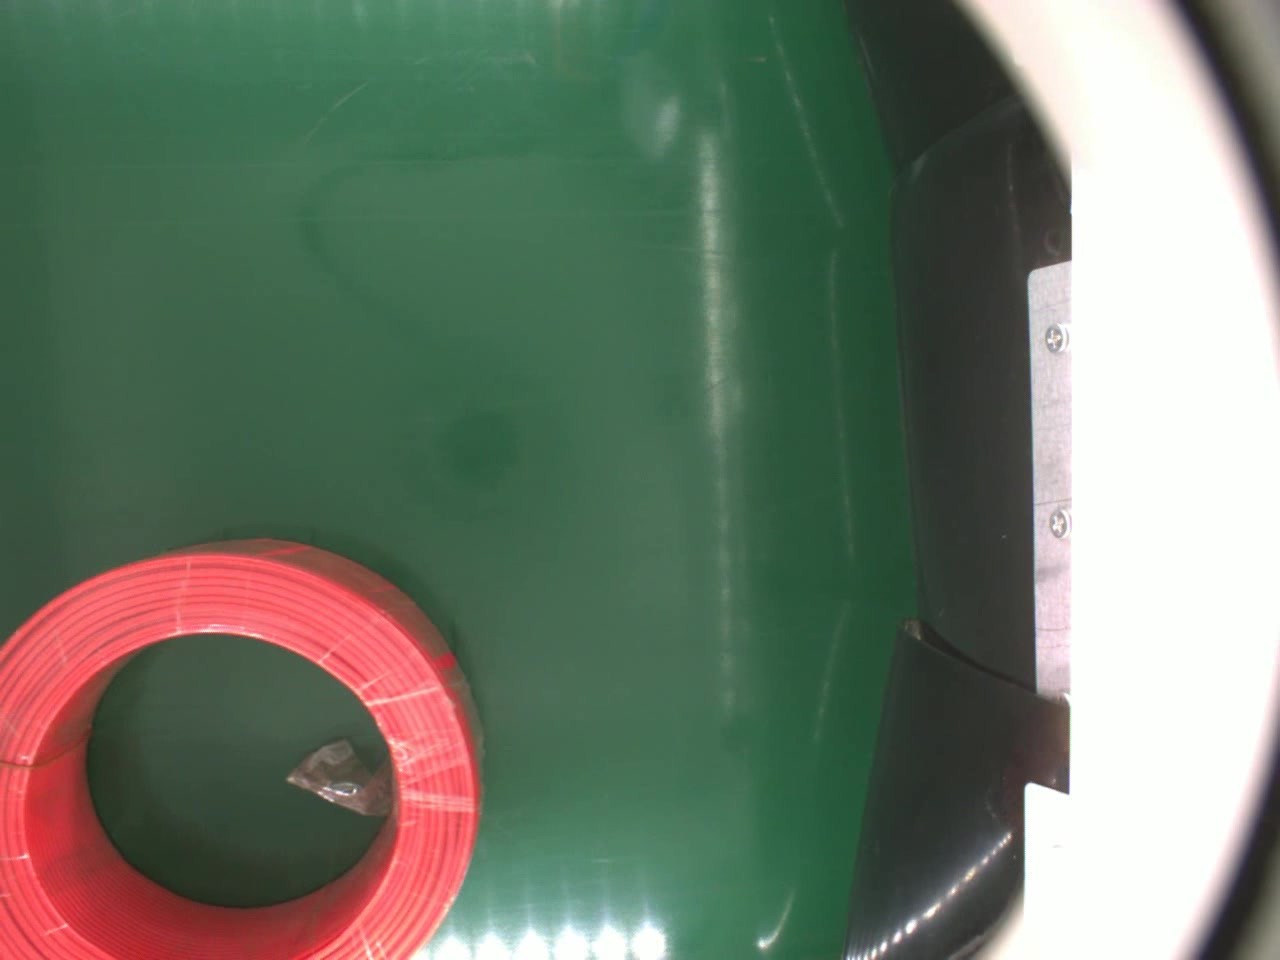red: (0, 532, 483, 960)
